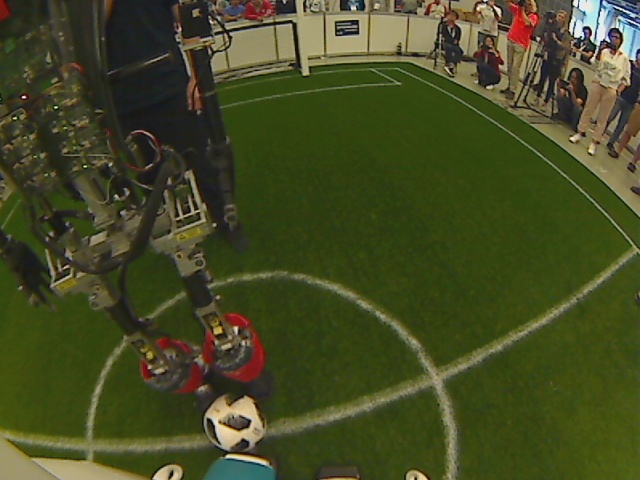ball: (199, 389, 271, 458)
